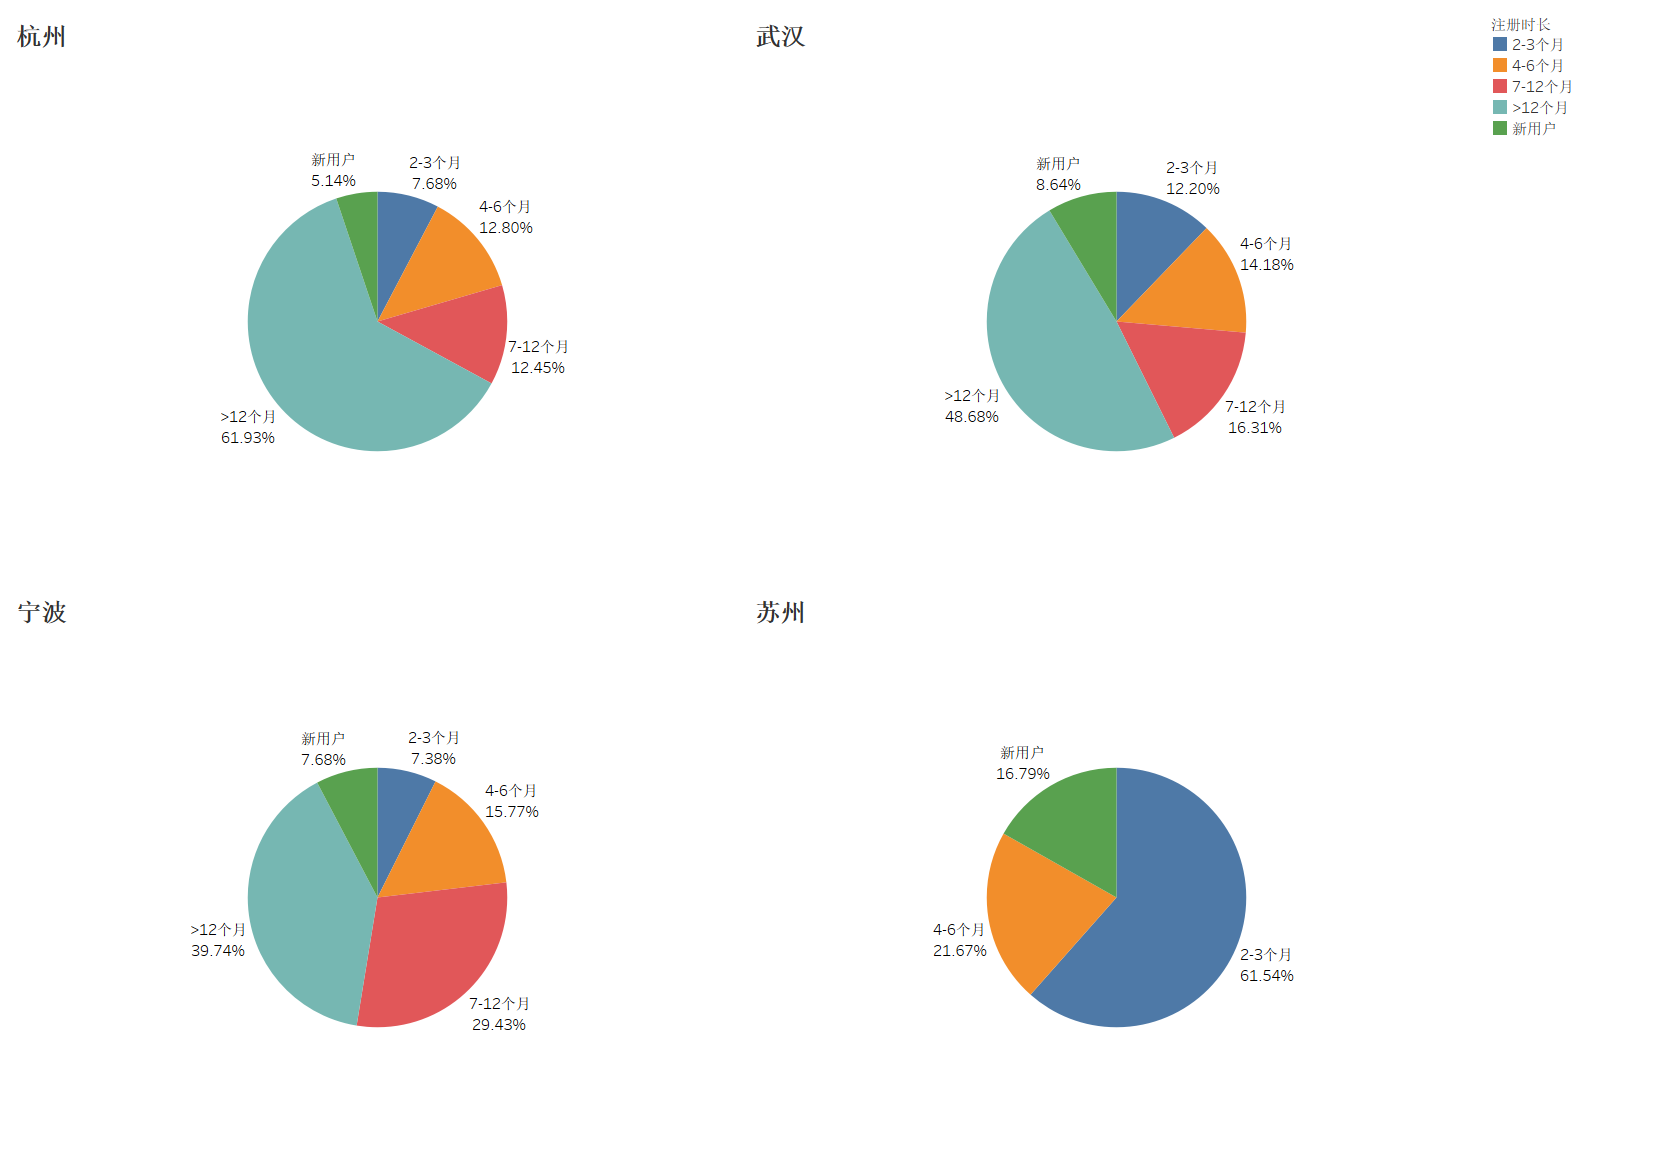

This screenshot's page, from the dashboard's own definition file:
{"tool":"tableau","page":{"name":"注册时长","canvas":[1654,1169],"ordinal":5},"visuals":[{"type":"worksheet","title":"用户结构分布-注册时长-杭州","mark":"Pie","box":[8,8,739,576.5]},{"type":"worksheet","title":"用户结构分布-注册时长-武汉","mark":"Pie","box":[747,8,739,576.5]},{"type":"legend","title":"用户结构分布-注册时长-武汉","param":"[federated.0kt5cqc19nmgk716i0vj00nlfy2w].[none:注册时长:nk]","box":[1486,8,160,135]},{"type":"worksheet","title":"用户结构分布-注册时长-宁波","mark":"Pie","box":[8,584.5,739,576.5]},{"type":"worksheet","title":"用户结构分布-注册时长-苏州","mark":"Pie","box":[747,584.5,739,576.5]}]}

Visuals, with their boxes in screenshot pixels (x1, y1, x2, y2), scaled from the page's 1654x1169 canvas onto the 1654x1169 screenshot:
"用户结构分布-注册时长-杭州" worksheet (Pie marks): left=8, top=8, right=747, bottom=584
"用户结构分布-注册时长-武汉" worksheet (Pie marks): left=747, top=8, right=1486, bottom=584
"用户结构分布-注册时长-武汉" legend: left=1486, top=8, right=1646, bottom=143
"用户结构分布-注册时长-宁波" worksheet (Pie marks): left=8, top=584, right=747, bottom=1161
"用户结构分布-注册时长-苏州" worksheet (Pie marks): left=747, top=584, right=1486, bottom=1161
